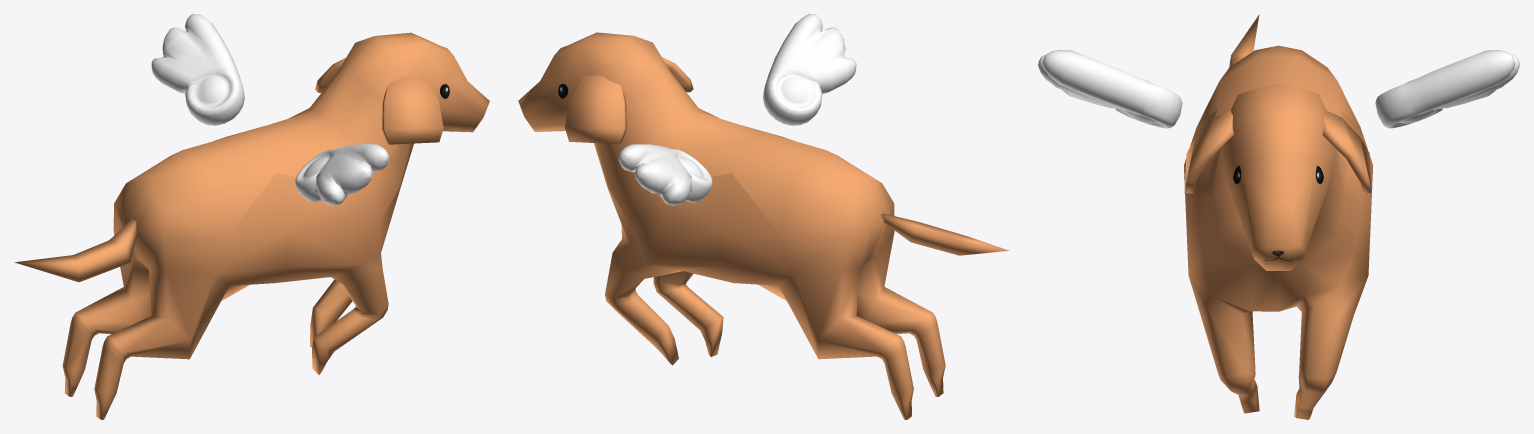
Rendered from no animation.FBX.
3 views of the same model, side by side, from view 1: azimuth 30°, elevation 25°; view 2: azimuth 150°, elevation 25°; view 3: azimuth 270°, elevation 25° (orthographic). The views are drawn at different scales.
Parts seen in each view (by area): view 1: Line001, Cylinder005, Cylinder004, Cylinder001; view 2: Line001, Cylinder004, Cylinder005, Cylinder001; view 3: Line001, Cylinder004, Cylinder005, Cylinder001.
Boxes of the visible parts, x1,y1,x2,y2 form: Line001: (62, 32, 489, 419); Cylinder005: (151, 14, 244, 125); Cylinder004: (295, 144, 388, 205); Cylinder001: (15, 218, 137, 282); Line001: (518, 32, 945, 419); Cylinder004: (763, 14, 856, 125); Cylinder005: (618, 144, 712, 205); Cylinder001: (881, 213, 1009, 255); Line001: (1184, 45, 1373, 419); Cylinder004: (1038, 50, 1182, 128); Cylinder005: (1375, 50, 1519, 128); Cylinder001: (1229, 14, 1259, 67).
Bounding box in the file's own units: 55.7 × 34.12 × 39.71.
